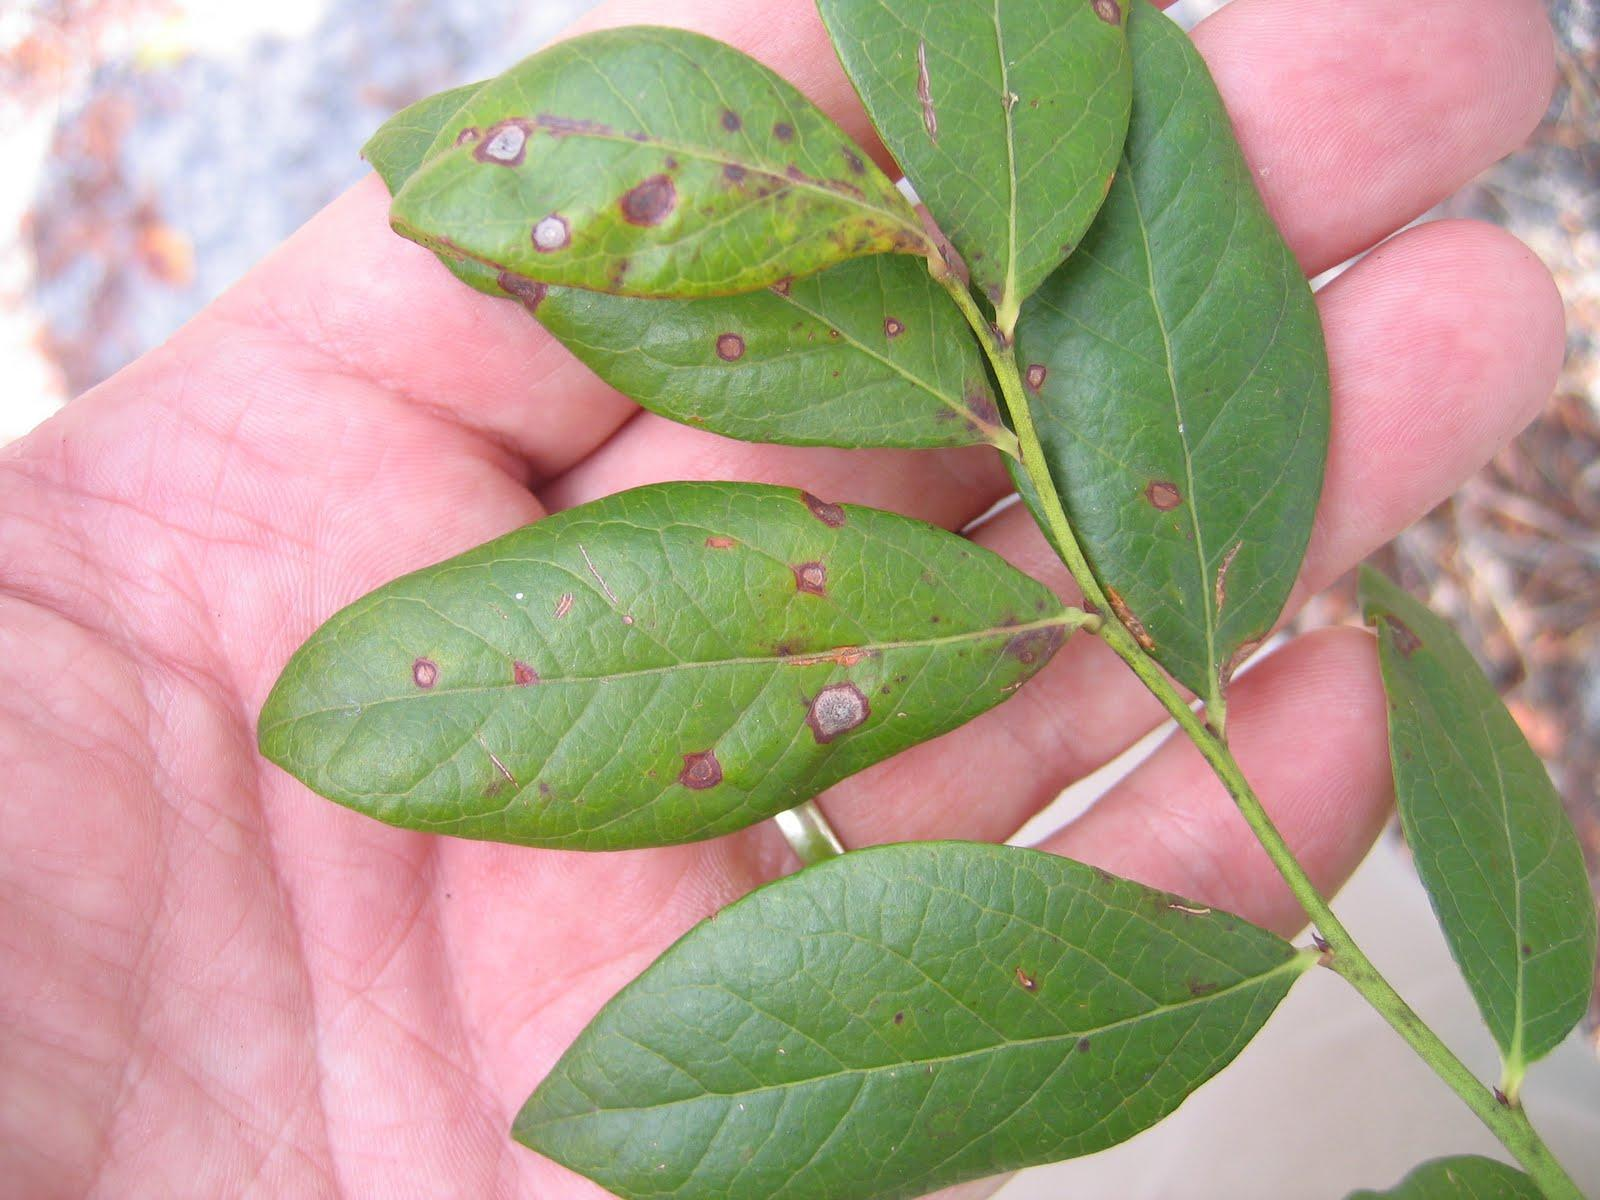Blueberry leaf: (197, 468, 1083, 866), (464, 845, 1361, 1194), (991, 1, 1340, 776), (391, 16, 960, 362), (1327, 526, 1600, 1076)
